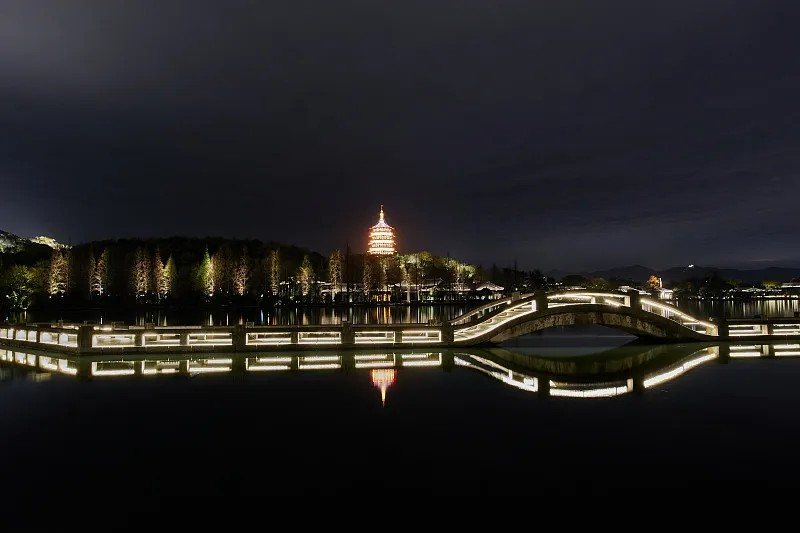Leifeng: (367, 203, 397, 257)
